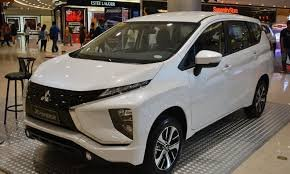mobil: (23, 9, 273, 174)
